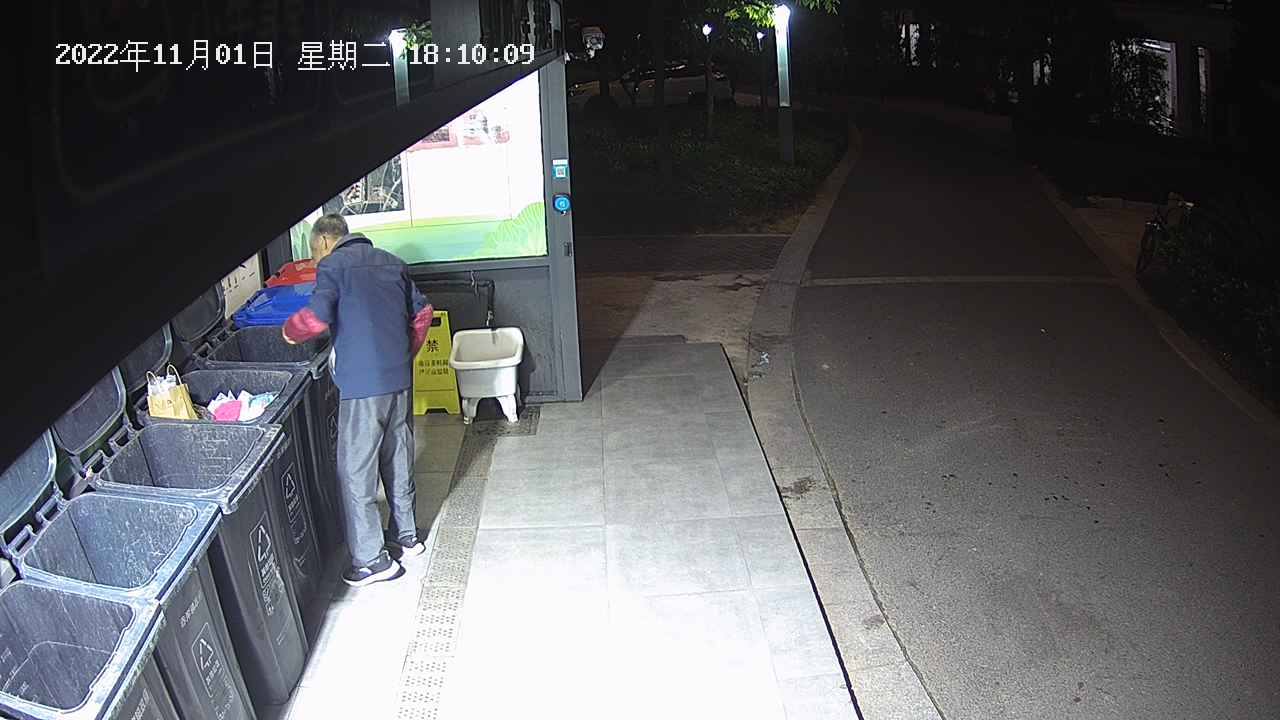person: (278, 212, 435, 587)
